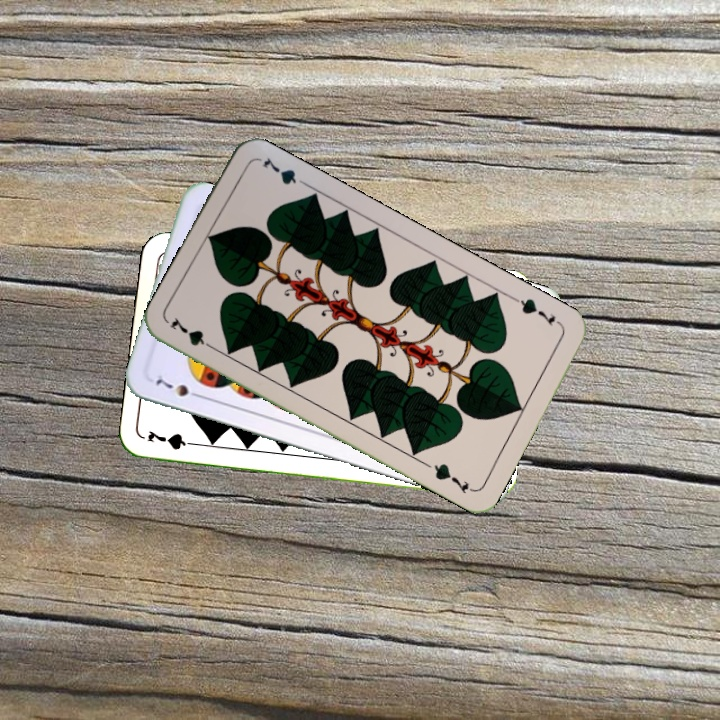G7: (166, 314, 220, 354), (510, 293, 564, 329), (143, 426, 202, 453)
S7: (151, 374, 206, 401)
